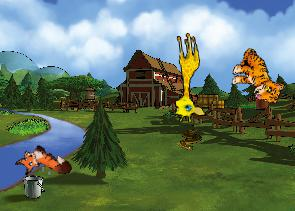fox: (12, 137, 74, 193)
giraffe: (165, 31, 206, 124)
tiger: (225, 45, 292, 107)
